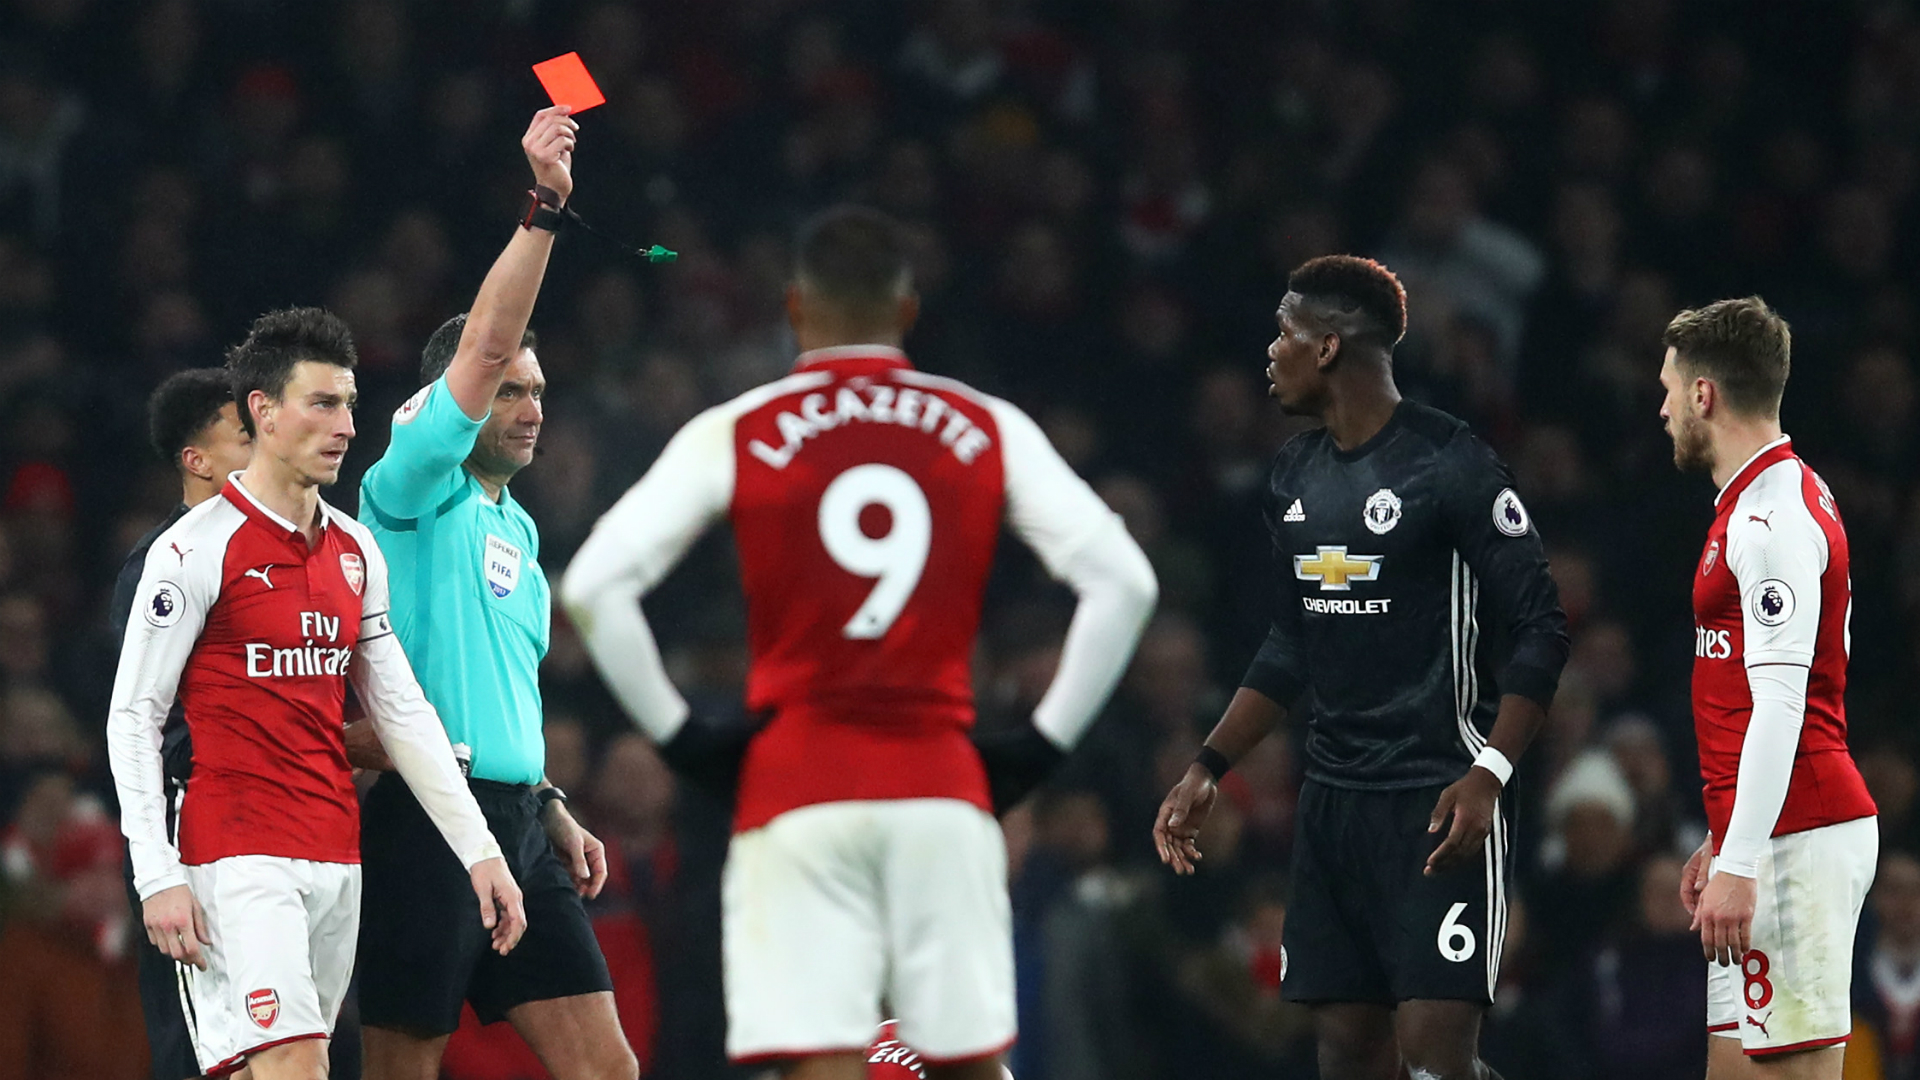red_card: (502, 33, 629, 193)
